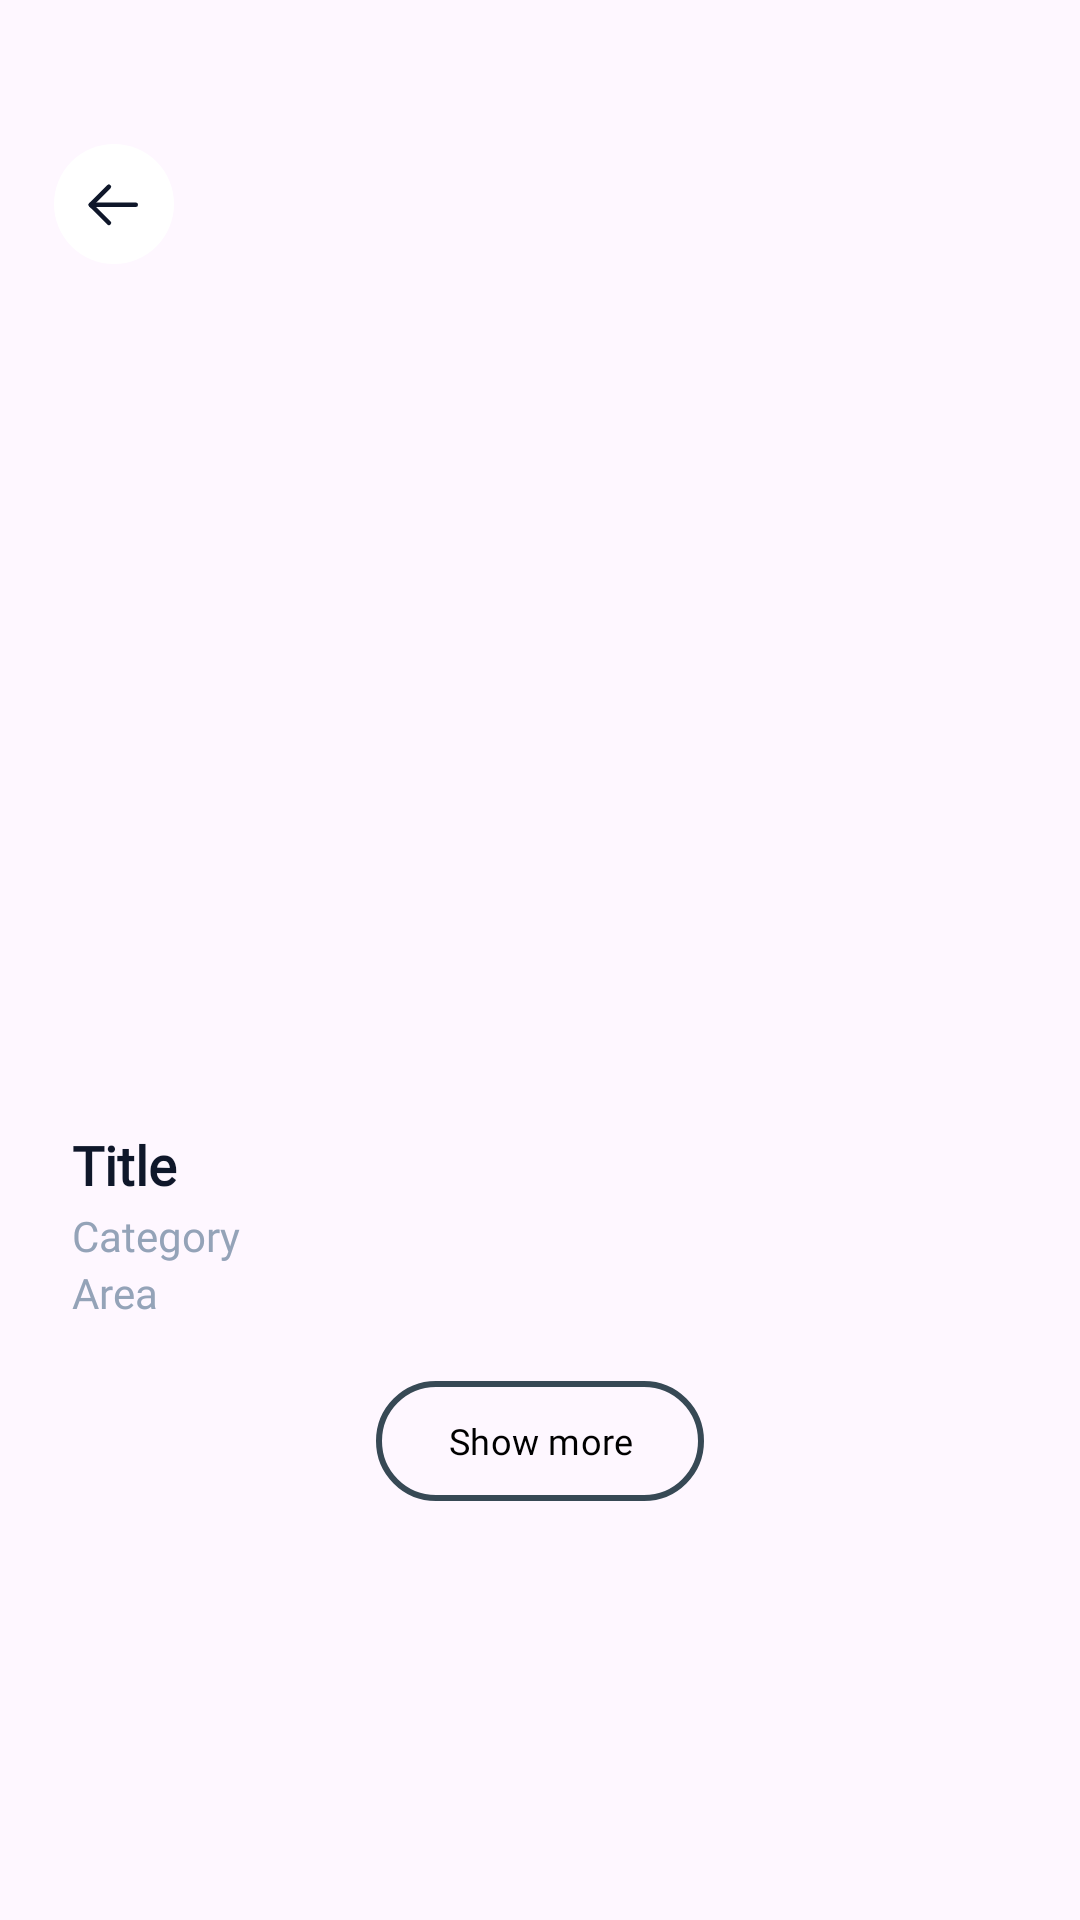

Where to tap for icons on this 1080px x 1920px app screen, as [x,y]:
back: [113,205]
